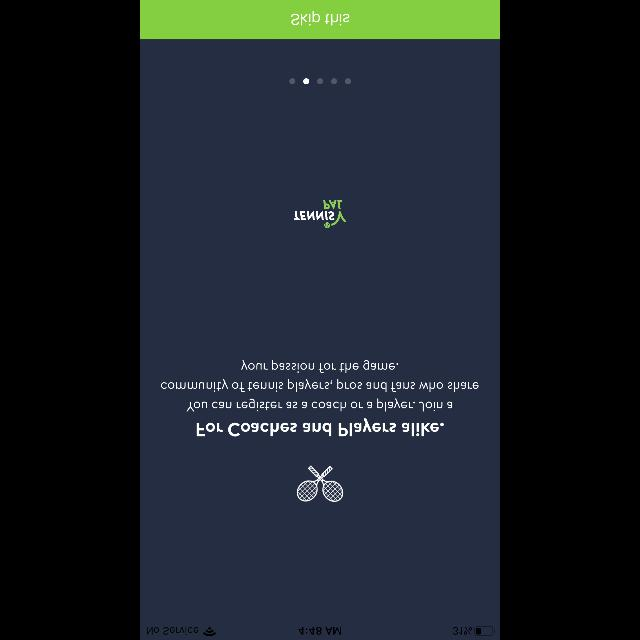image: (297, 466, 343, 502), (294, 200, 346, 228)
pageindicator: (290, 78, 350, 84)
text: (162, 361, 478, 412), (196, 418, 444, 436)
textbutton: (140, 1, 500, 40)
uppertaskbar: (140, 626, 500, 640)
